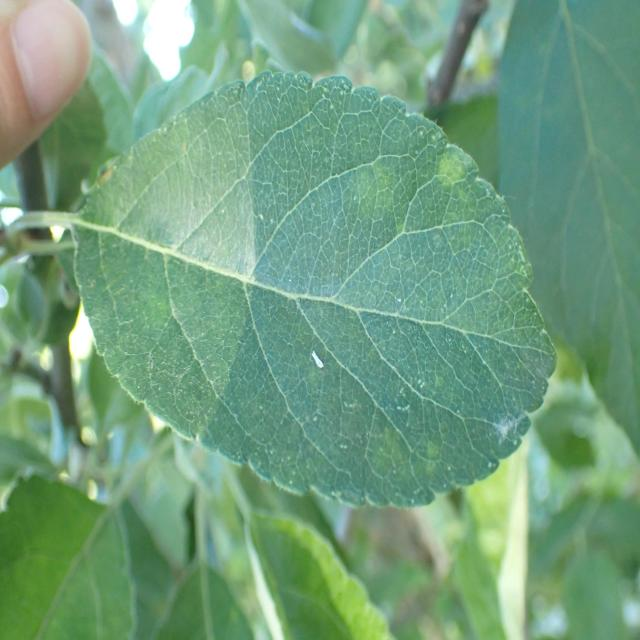scab: (98, 132, 533, 494)
